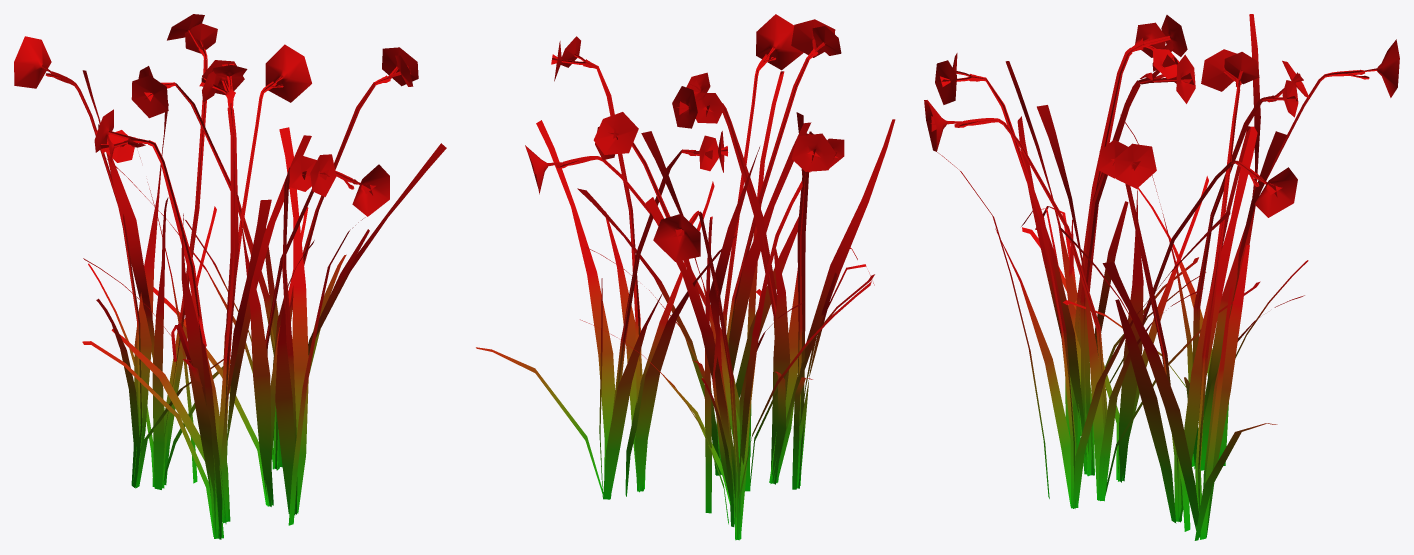
Rendered from Rush Daffodil_LOD4_Var3_wftgfjaia.fbx.
3 views of the same model, side by side, from view 1: azimuth 30°, elevation 25°; view 2: azimuth 150°, elevation 25°; view 3: azimuth 270°, elevation 25° (orthographic). The views are drawn at different scales.
Visible parts, largest first — view 1: _4t0l_var3_LOD4; view 2: _4t0l_var3_LOD4; view 3: _4t0l_var3_LOD4.
Part boxes in pixels (left/top/right/bottom): _4t0l_var3_LOD4: left=14, top=14, right=446, bottom=539; _4t0l_var3_LOD4: left=476, top=14, right=895, bottom=540; _4t0l_var3_LOD4: left=924, top=14, right=1399, bottom=540.
Size of the model in its own units: 29.54 by 35.91 by 34.23.
